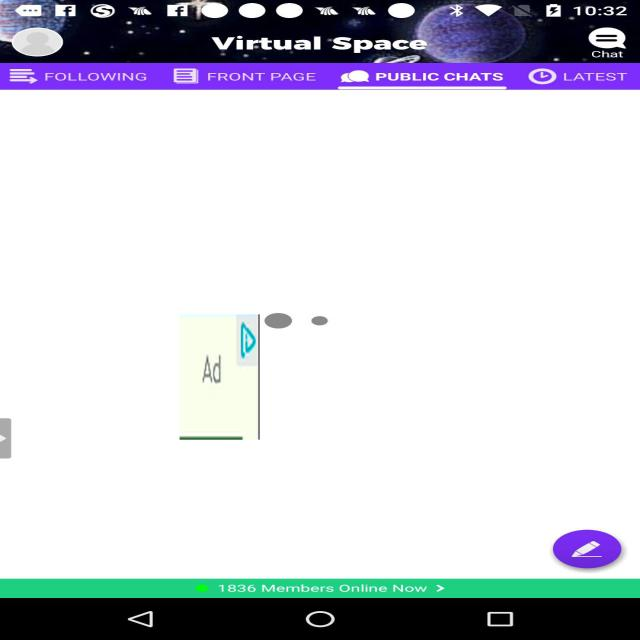sneaking: (180, 314, 260, 440)
